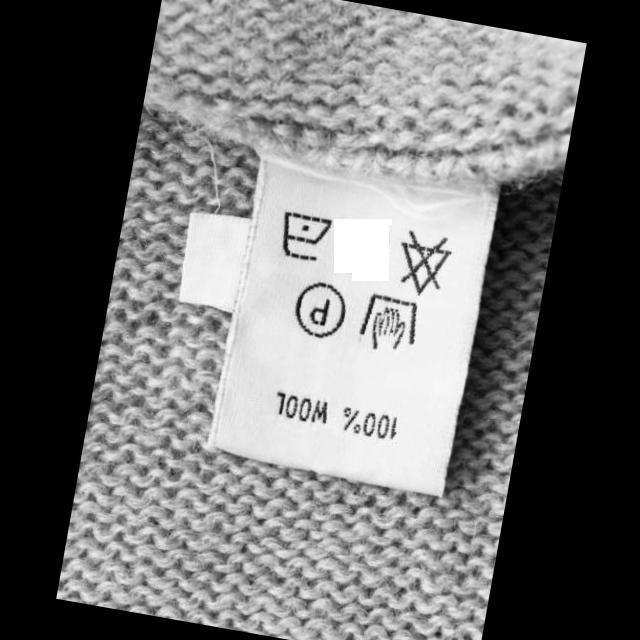DN_bleach: (389, 226, 454, 300)
hand_wash: (352, 287, 424, 358)
iron_low: (272, 204, 334, 266)
normal_dry_clean_solvents: (286, 274, 352, 346)
